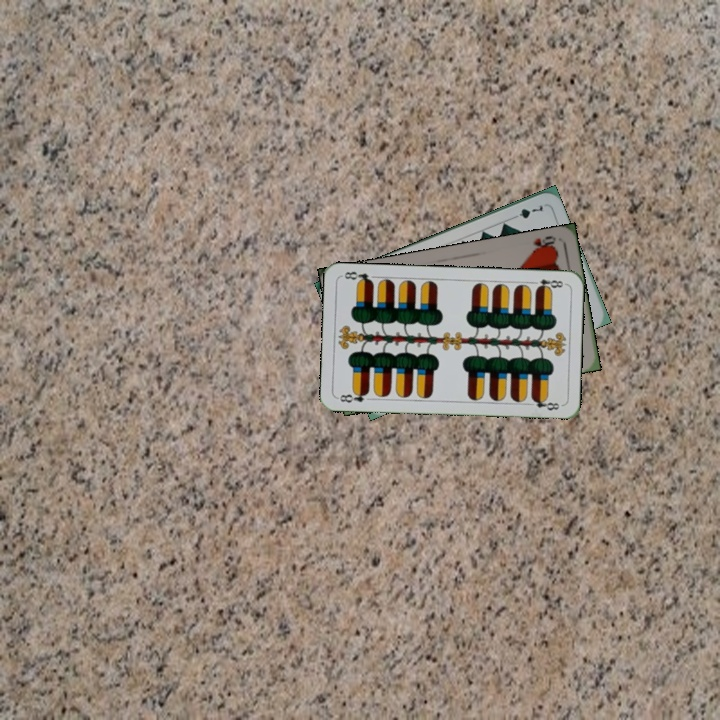E8: (527, 275, 566, 293), (336, 387, 372, 405)
G7: (507, 201, 546, 222)
HO: (529, 232, 558, 254)
